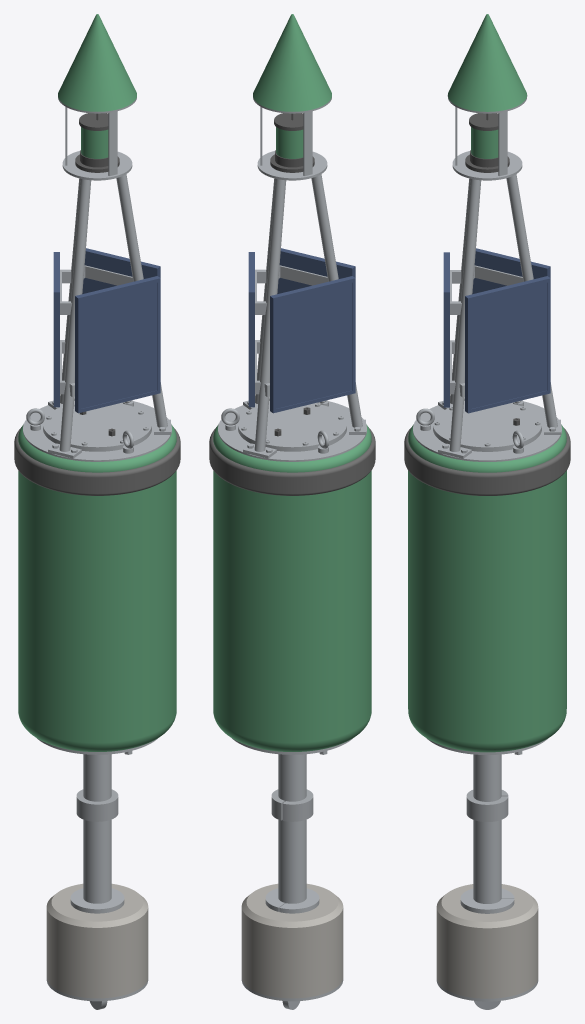
Rendered from step_05.glb.
3 renders of one model, left to right at view 1: azimuth 30°, elevation 25°; view 2: azimuth 150°, elevation 25°; view 3: azimuth 270°, elevation 25°, orthographic.
Visible parts, largest first — view 1: part__float hull, part__solar panel 1, part__ballast ring, part__topmark, part__fender ring, part__tail tube, part__hatch lid, part__tripod leg 2, part__deck plate, part__tripod leg 3, part__solar panel 2, part__solar panel 3 (+9 smaller); view 2: part__float hull, part__solar panel 3, part__ballast ring, part__topmark, part__fender ring, part__tail tube, part__hatch lid, part__tripod leg 1, part__deck plate, part__tripod leg 2, part__solar panel 1, part__solar panel 2 (+9 smaller); view 3: part__float hull, part__solar panel 2, part__ballast ring, part__topmark, part__fender ring, part__tail tube, part__hatch lid, part__tripod leg 3, part__deck plate, part__tripod leg 1, part__solar panel 3, part__solar panel 1 (+9 smaller).
Boxes of the visible parts, x1,y1,x2,y2 form: part__float hull: [18, 424, 176, 751]; part__solar panel 1: [75, 276, 160, 413]; part__ballast ring: [46, 883, 148, 998]; part__topmark: [58, 14, 136, 111]; part__fender ring: [14, 427, 180, 495]; part__tail tube: [46, 754, 148, 1001]; part__hatch lid: [43, 403, 151, 449]; part__tripod leg 2: [48, 179, 91, 458]; part__deck plate: [23, 401, 171, 461]; part__tripod leg 3: [116, 174, 170, 434]; part__solar panel 2: [82, 248, 160, 293]; part__solar panel 3: [53, 252, 59, 407]; part__float hull: [213, 424, 371, 751]; part__solar panel 3: [270, 276, 355, 413]; part__ballast ring: [241, 883, 343, 998]; part__topmark: [253, 14, 331, 111]; part__fender ring: [209, 427, 375, 495]; part__tail tube: [241, 754, 343, 1001]; part__hatch lid: [238, 403, 346, 449]; part__tripod leg 1: [243, 179, 286, 458]; part__deck plate: [218, 401, 366, 461]; part__tripod leg 2: [311, 174, 365, 434]; part__solar panel 1: [277, 248, 355, 293]; part__solar panel 2: [248, 252, 254, 407]; part__float hull: [408, 424, 566, 752]; part__solar panel 2: [465, 276, 550, 413]; part__ballast ring: [436, 884, 538, 998]; part__topmark: [448, 14, 526, 111]; part__fender ring: [404, 428, 570, 495]; part__tail tube: [436, 754, 538, 1001]; part__hatch lid: [433, 403, 541, 449]; part__tripod leg 3: [438, 179, 481, 458]; part__deck plate: [413, 401, 561, 461]; part__tripod leg 1: [506, 174, 560, 434]; part__solar panel 3: [472, 248, 550, 294]; part__solar panel 1: [443, 252, 449, 407].
Bounding box in the file's own units: 524 × 3455 × 524.
